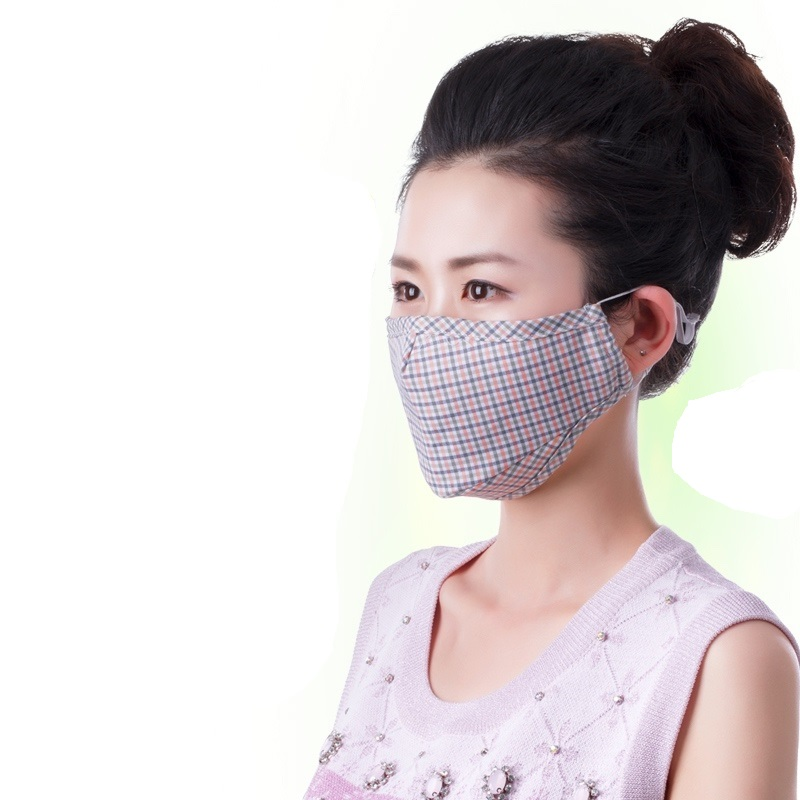face_mask: (388, 164, 600, 481)
